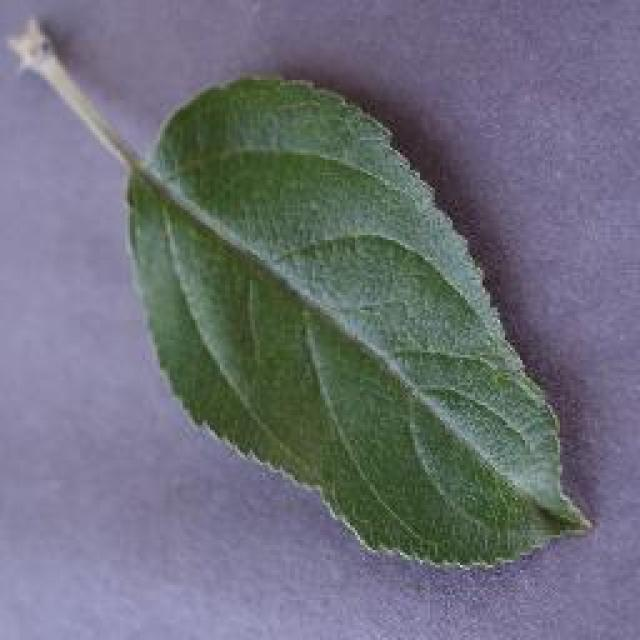apple healthy: (5, 10, 595, 572)
